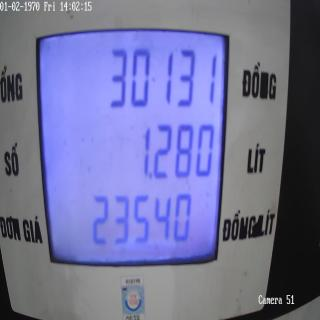screen: (32, 9, 235, 276)
